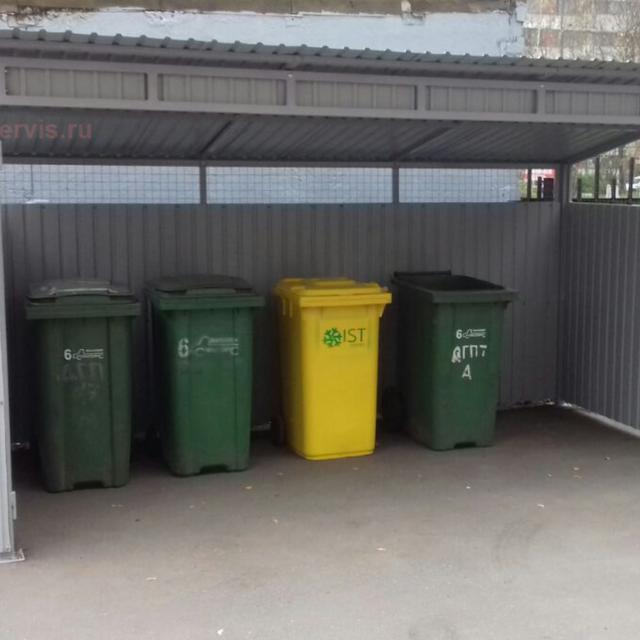Trash_Can_Closed: (23, 281, 141, 491), (147, 275, 263, 475), (274, 279, 390, 459)
Trash_Can_Empty: (391, 271, 517, 450)
